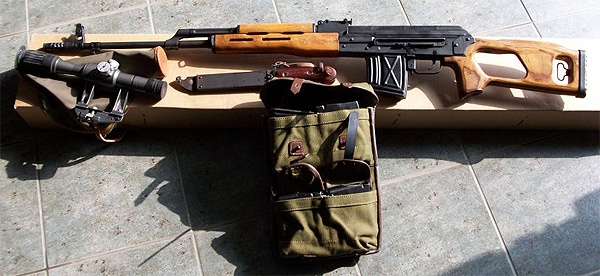ak47: (44, 25, 586, 98)
